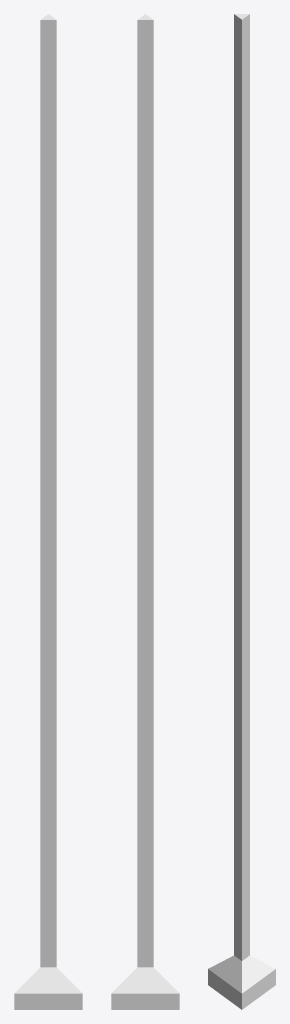
Rendered from Pole.fbx.
The picture shows the model from 3 angles, left to right: view 1: azimuth 90°, elevation 25°; view 2: azimuth 210°, elevation 25°; view 3: azimuth 270°, elevation 25°; orthographic projection.
Parts seen in each view (by area): view 1: Pole; view 2: Pole; view 3: Pole.
Part boxes in pixels (x1=…): Pole: x1=14, y1=14, x2=82, y2=1009; Pole: x1=111, y1=14, x2=179, y2=1009; Pole: x1=208, y1=14, x2=275, y2=1009.
Size of the model in its own units: 37.99 by 697 by 43.87.
